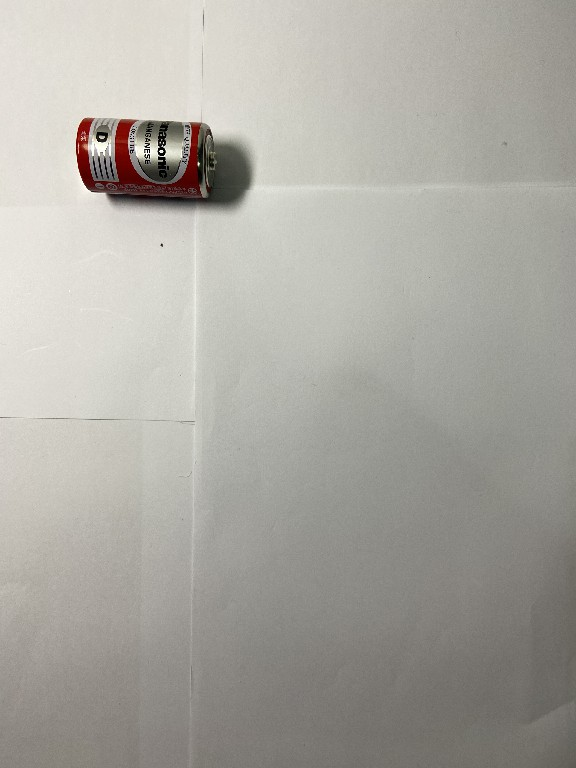charge: (72, 109, 223, 204)
